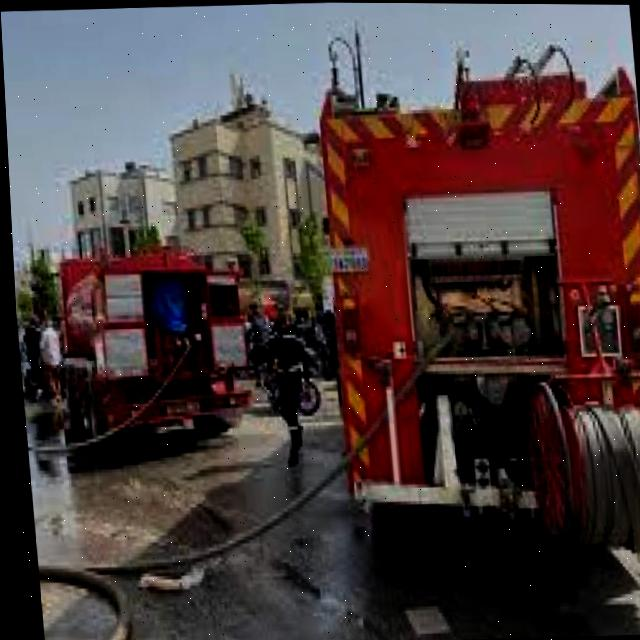emergency: (290, 28, 640, 628), (41, 208, 265, 473)
